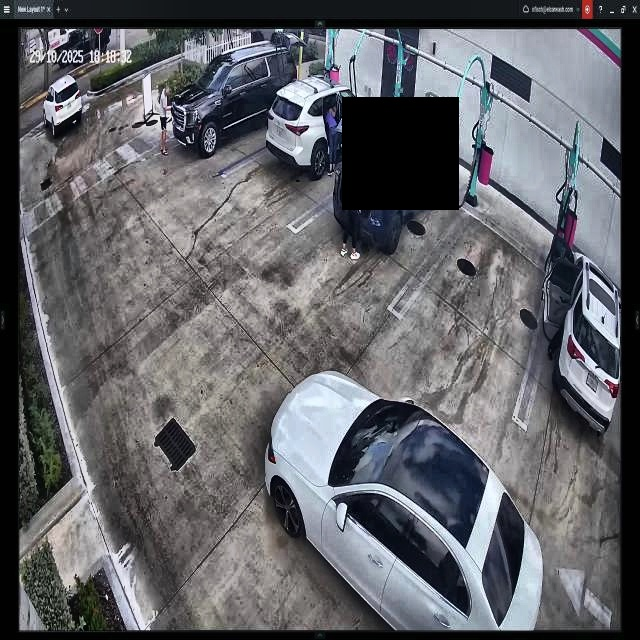Car: (263, 373, 542, 632), (334, 116, 444, 246), (171, 46, 295, 156), (266, 74, 380, 176)
